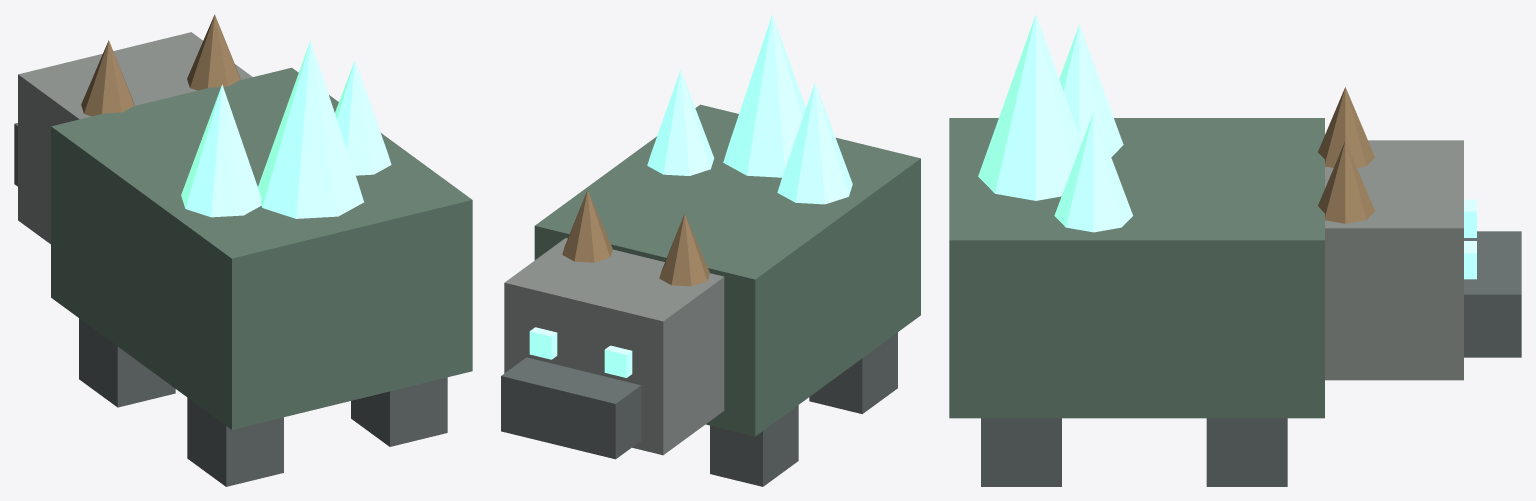
File: qi_eating_whelp.glb
3 views of the same model, side by side, from view 1: azimuth 30°, elevation 25°; view 2: azimuth 150°, elevation 25°; view 3: azimuth 270°, elevation 25° (orthographic). The views are drawn at different scales.
Visible parts, largest first — view 1: qi_eating_whelp; view 2: qi_eating_whelp; view 3: qi_eating_whelp.
Boxes of the visible parts, x1,y1,x2,y2 form: qi_eating_whelp: (14,14,472,486); qi_eating_whelp: (501,14,920,486); qi_eating_whelp: (949,14,1521,486).
Size of the model in its own units: 1 by 1.59 by 1.98.
Materials: 5 (5 with a texture image).
